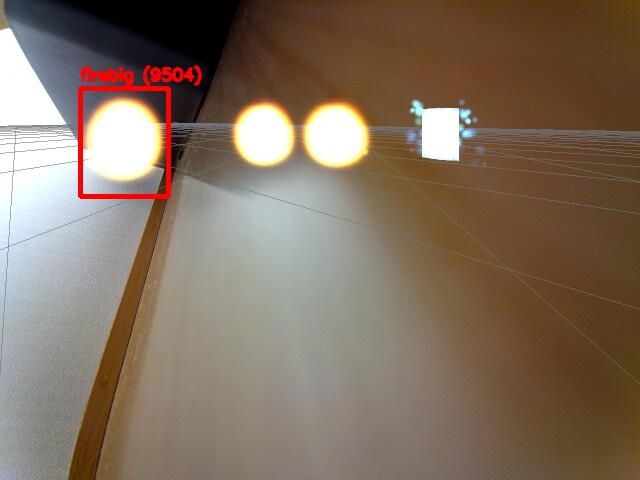firebig: (80, 88, 168, 196)
